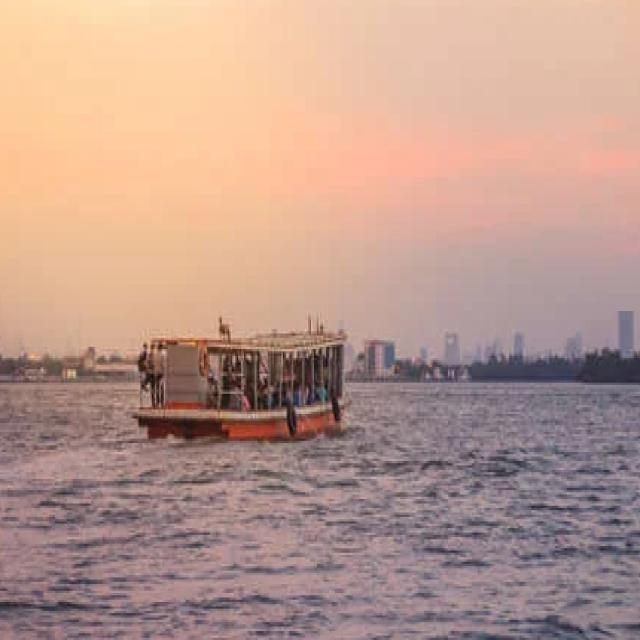houseboat: (124, 307, 350, 450)
